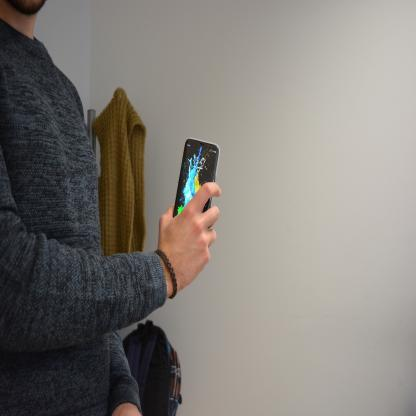smartphone: (172, 137, 220, 222)
